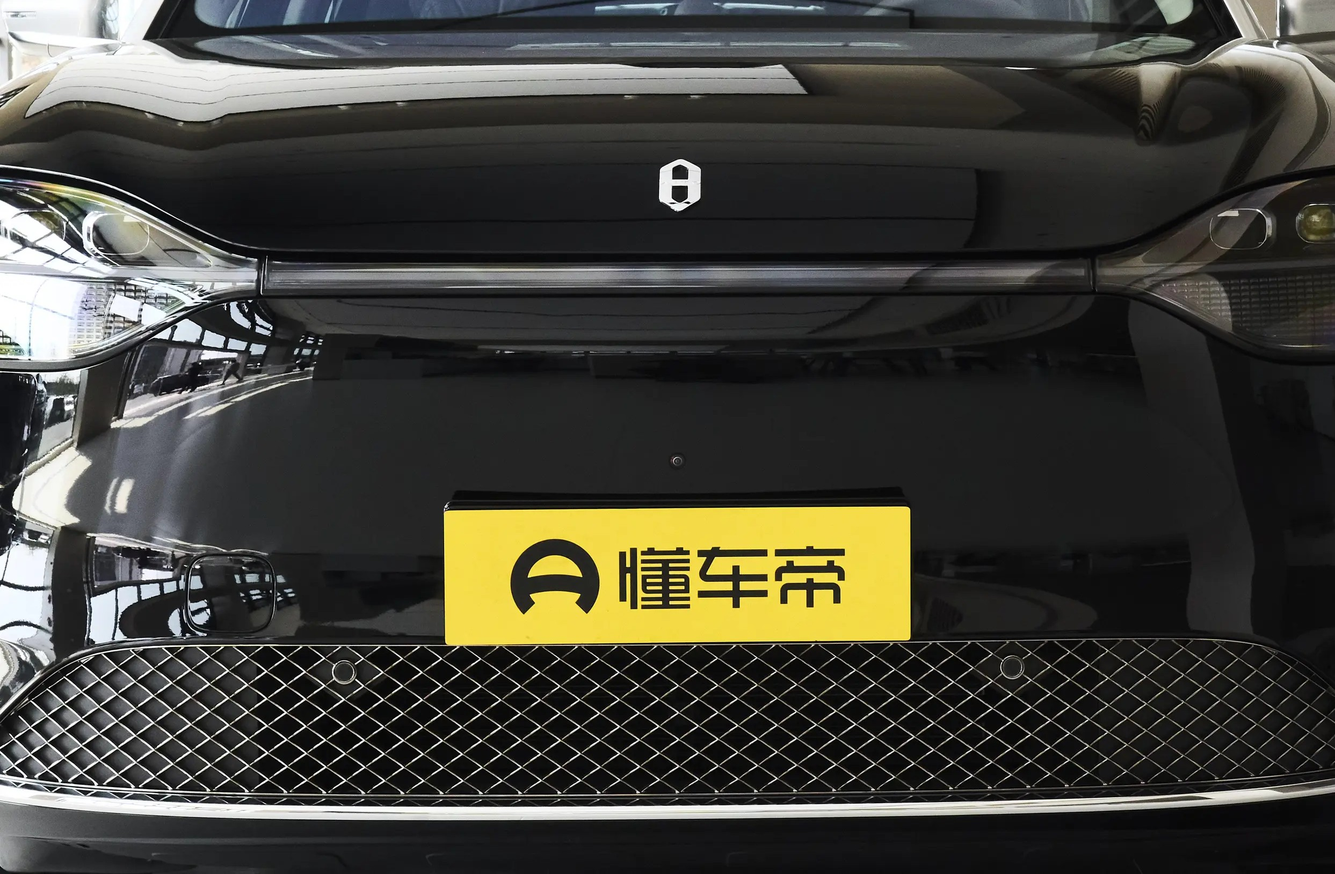AITO: (659, 159, 700, 211)
